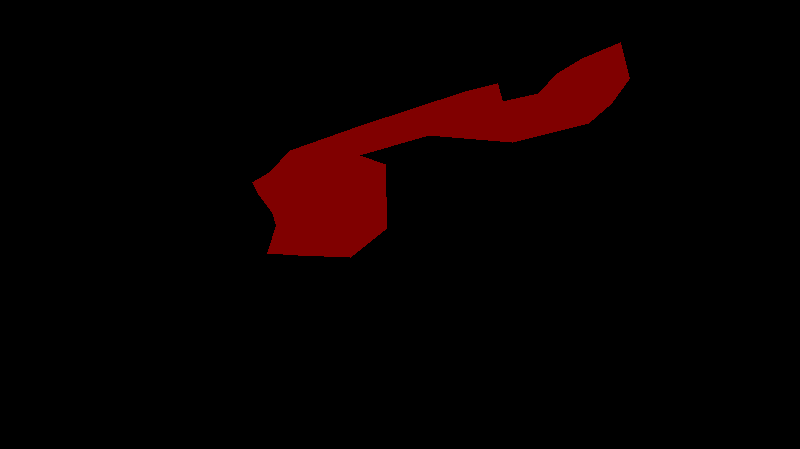fire: (252, 42, 629, 257)
